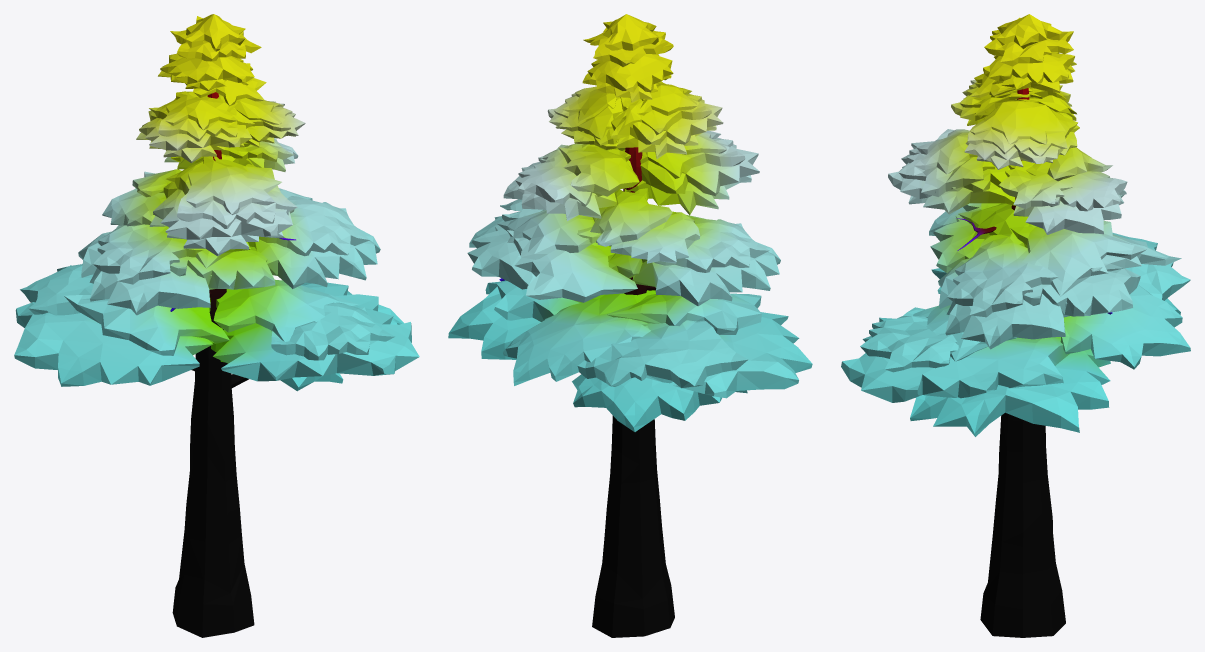
Rendered from Tree_Base_V3_TrunkOnly_Dense_MidBend1_Rmid_Full.fbx.
The picture shows the model from 3 angles, left to right: view 1: azimuth 30°, elevation 25°; view 2: azimuth 150°, elevation 25°; view 3: azimuth 270°, elevation 25°; orthographic projection.
Visible parts, largest first — view 1: Cube.004; view 2: Cube.004; view 3: Cube.004.
Part boxes in pixels (x1=…): Cube.004: x1=14, y1=14, x2=419, y2=637; Cube.004: x1=448, y1=14, x2=812, y2=637; Cube.004: x1=841, y1=14, x2=1190, y2=637.
Bounding box in the file's own units: 298 × 489 × 254.
